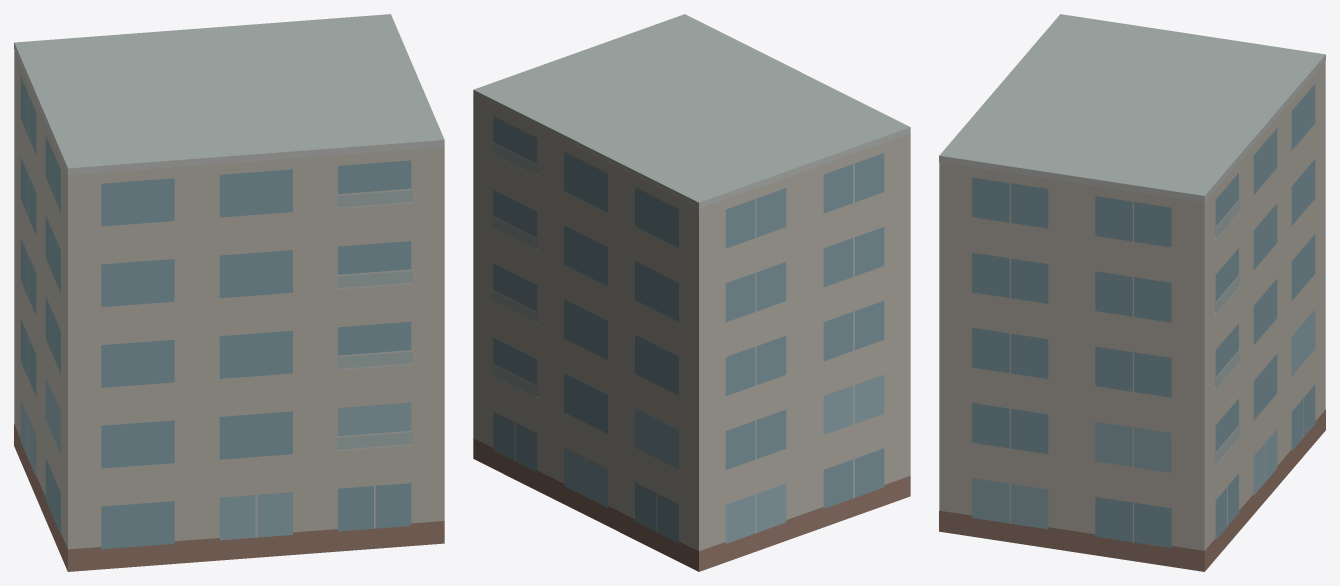
The model's file is survey-upis-32691914.glb.
3 views of the same model, side by side, from view 1: azimuth 30°, elevation 25°; view 2: azimuth 150°, elevation 25°; view 3: azimuth 270°, elevation 25° (orthographic). The views are drawn at different scales.
Parts seen in each view (by area): view 1: survey-upis-32691914.tmp; view 2: survey-upis-32691914.tmp; view 3: survey-upis-32691914.tmp.
Boxes of the visible parts, left/top/right/bottom form: survey-upis-32691914.tmp: left=14, top=14, right=444, bottom=571; survey-upis-32691914.tmp: left=473, top=14, right=910, bottom=571; survey-upis-32691914.tmp: left=939, top=14, right=1325, bottom=571.
Size of the model in its own units: 14.75 by 14.2 by 13.25.
